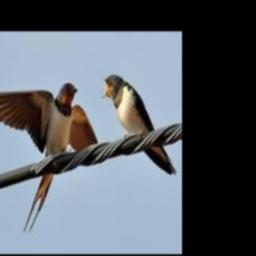Swallow: (0, 83, 99, 232), (103, 76, 178, 175)
